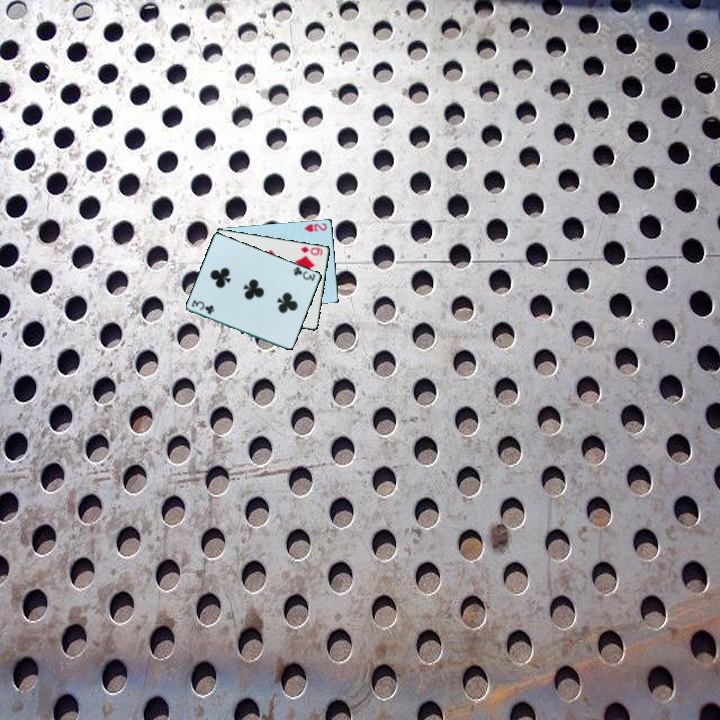2h: (301, 219, 330, 234)
3c: (290, 263, 318, 284), (188, 298, 217, 317)
6d: (298, 243, 326, 258)
